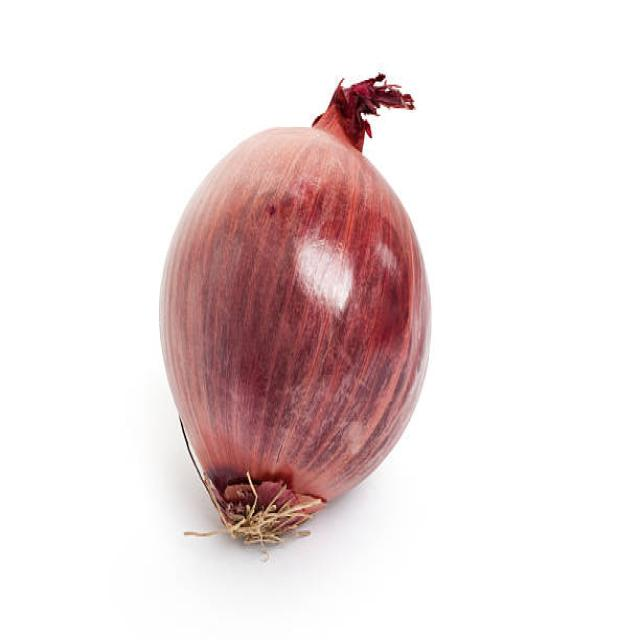onion: (160, 109, 428, 542)
